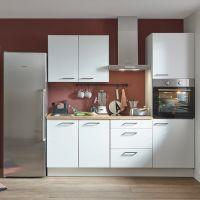cabinet_door: (152, 119, 195, 168), (153, 34, 194, 79), (47, 120, 79, 167), (48, 35, 79, 81), (78, 35, 108, 82), (79, 120, 109, 166), (112, 129, 152, 147), (112, 150, 151, 166), (112, 119, 151, 128)
handle: (41, 88, 47, 143), (58, 75, 75, 81), (83, 121, 101, 126), (120, 131, 137, 136), (58, 121, 75, 126), (155, 71, 169, 77), (122, 121, 138, 126), (121, 152, 137, 157), (154, 122, 170, 127), (79, 76, 94, 81)
